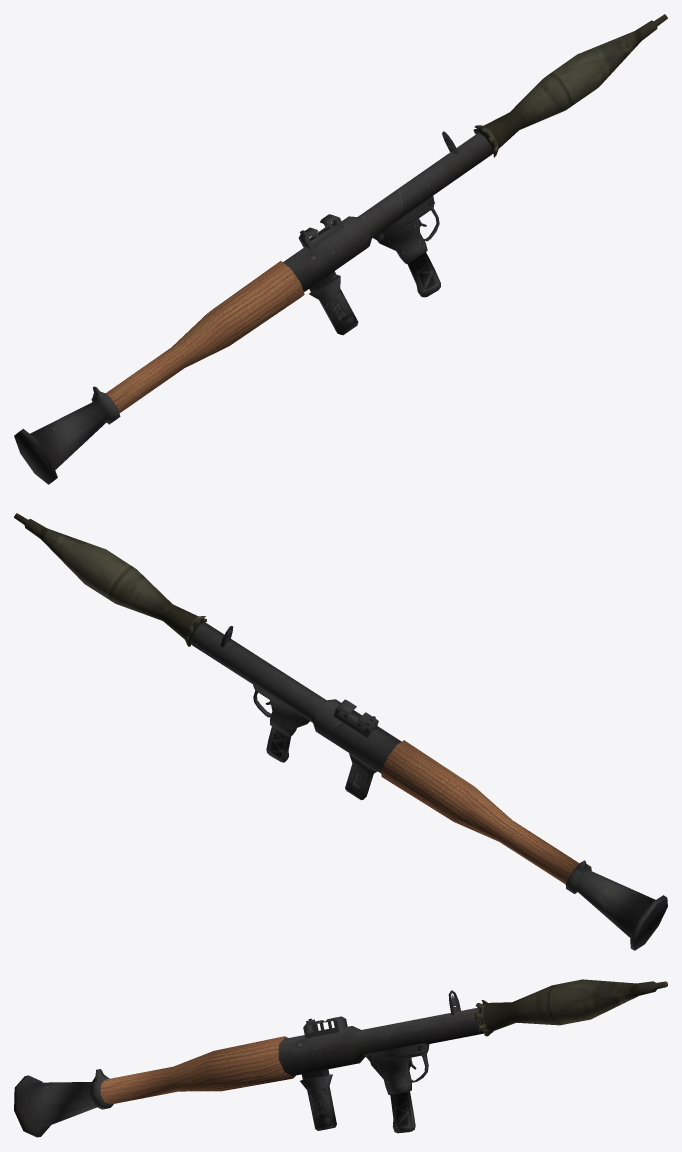
Rendered from w_rpg.glb.
The picture shows the model from 3 angles, top to bottom: view 1: azimuth 30°, elevation 25°; view 2: azimuth 150°, elevation 25°; view 3: azimuth 330°, elevation 25°; orthographic projection. The views are drawn at different scales.
Parts seen in each view (by area): view 1: RPG7, RPG7 Rocket; view 2: RPG7, RPG7 Rocket; view 3: RPG7, RPG7 Rocket.
Part boxes in pixels (x1,y1,x2,y2): RPG7: [14, 131, 493, 484]; RPG7 Rocket: [473, 14, 667, 157]; RPG7: [190, 622, 667, 950]; RPG7 Rocket: [14, 513, 206, 646]; RPG7: [14, 990, 485, 1137]; RPG7 Rocket: [475, 979, 667, 1036].
Bounding box in the file's own units: 2.19 × 0.9702 × 0.2149.
1 material, 1 textured.
